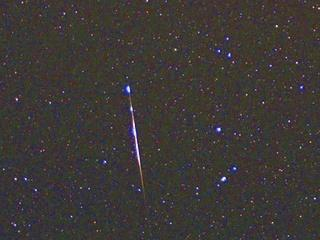meteorite: (123, 82, 150, 198)
